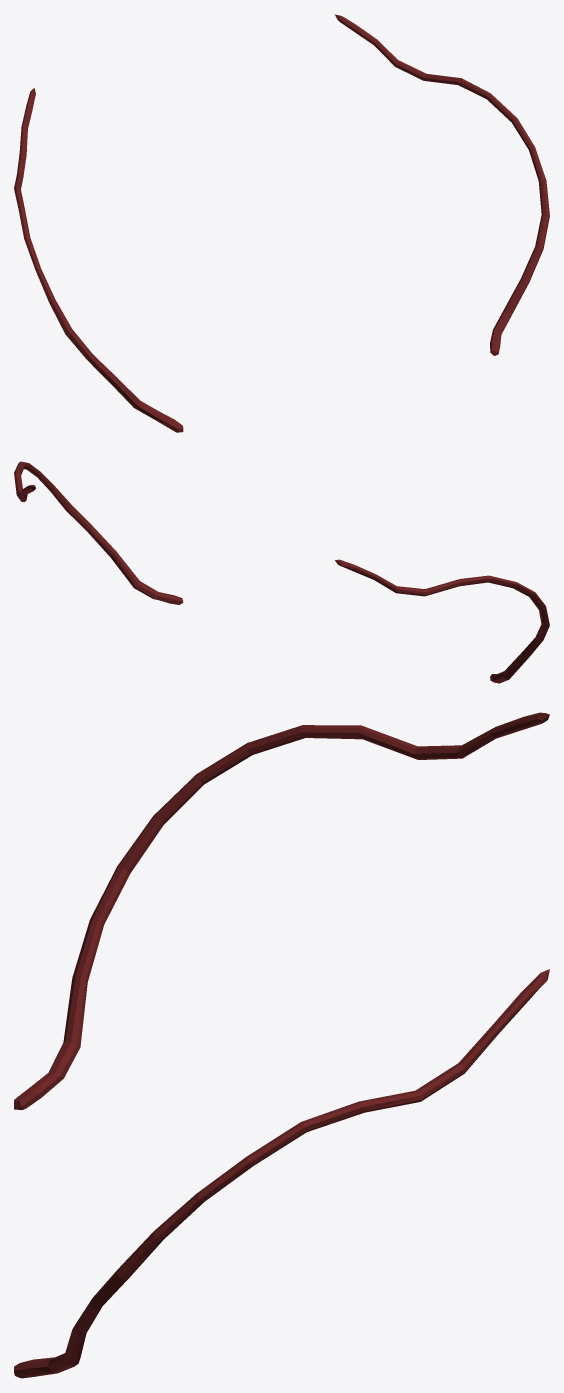
File: Rama Occipital.FBX
3 renders of one model, top to bottom at view 1: azimuth 30°, elevation 25°; view 2: azimuth 150°, elevation 25°; view 3: azimuth 270°, elevation 25°, orthographic. The views are drawn at different scales.
Visible parts, largest first — view 1: CS_Arterie; view 2: CS_Arterie; view 3: CS_Arterie.
Boxes of the visible parts, x1,y1,x2,y2 form: CS_Arterie: [14, 14, 549, 432]; CS_Arterie: [14, 461, 549, 683]; CS_Arterie: [14, 712, 549, 1378].
Bounding box in the file's own units: 460 × 203 × 246.
